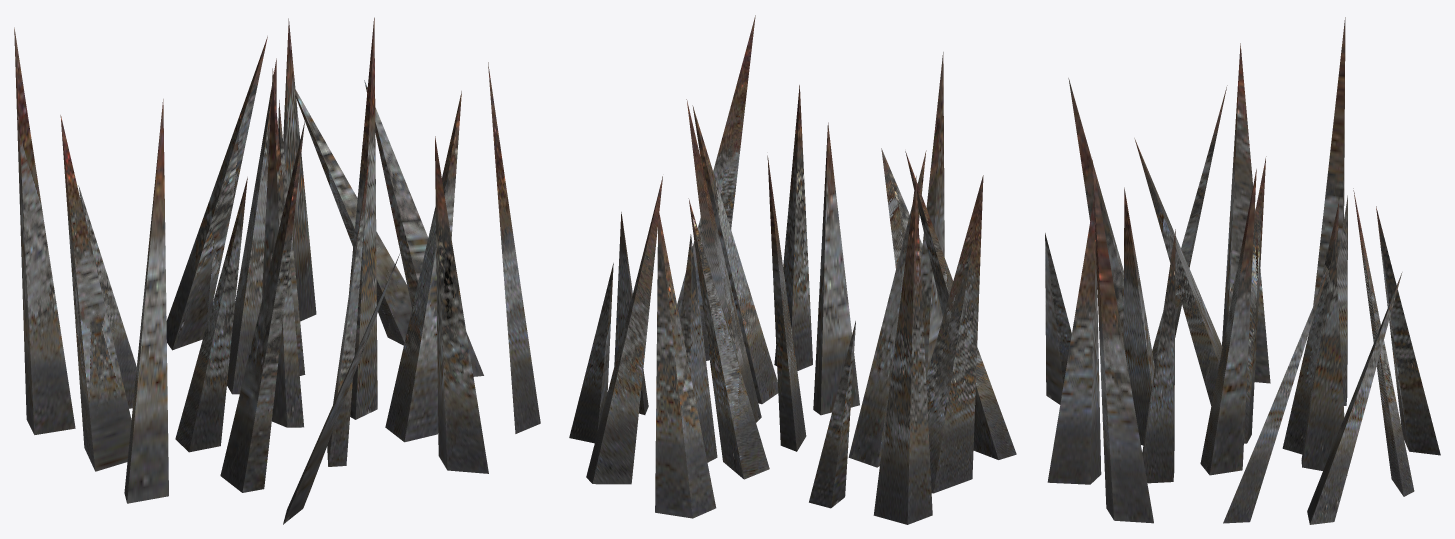
The model's file is spikes.fbx.
The picture shows the model from 3 angles, left to right: view 1: azimuth 30°, elevation 25°; view 2: azimuth 150°, elevation 25°; view 3: azimuth 270°, elevation 25°; orthographic projection. The views are drawn at different scales.
Parts seen in each view (by area): view 1: spikes; view 2: spikes; view 3: spikes.
Boxes of the visible parts, x1,y1,x2,y2 form: spikes: [14, 17, 540, 524]; spikes: [569, 15, 1016, 524]; spikes: [1045, 17, 1440, 524].
Size of the model in its own units: 97.96 by 88.91 by 93.36.
